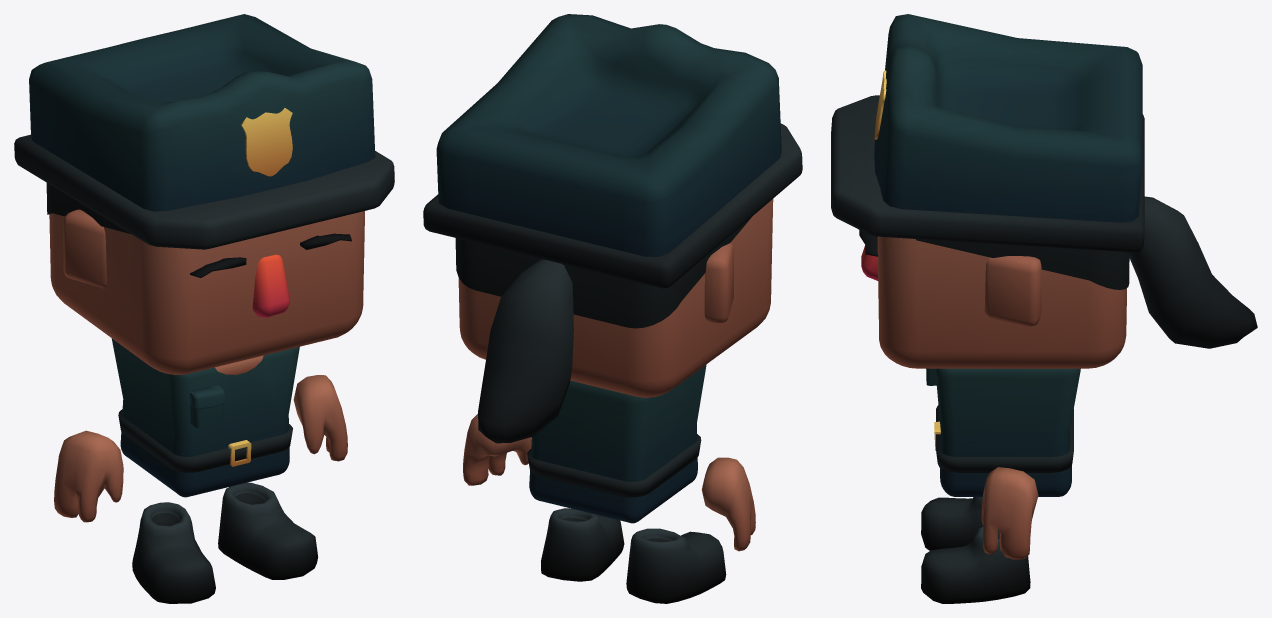
Rendered from guardia_tecsup.glb.
3 views of the same model, side by side, from view 1: azimuth 30°, elevation 25°; view 2: azimuth 150°, elevation 25°; view 3: azimuth 270°, elevation 25° (orthographic).
Visible parts, largest first — view 1: Cube.003; view 2: Cube.003; view 3: Cube.003.
Part boxes in pixels (x1,y1,x2,y2): Cube.003: (14, 14, 394, 603); Cube.003: (423, 14, 802, 603); Cube.003: (831, 14, 1257, 603).
Bounding box in the file's own units: 0.8537 × 1.5 × 1.12.
Materials: 1 (1 with a texture image).
